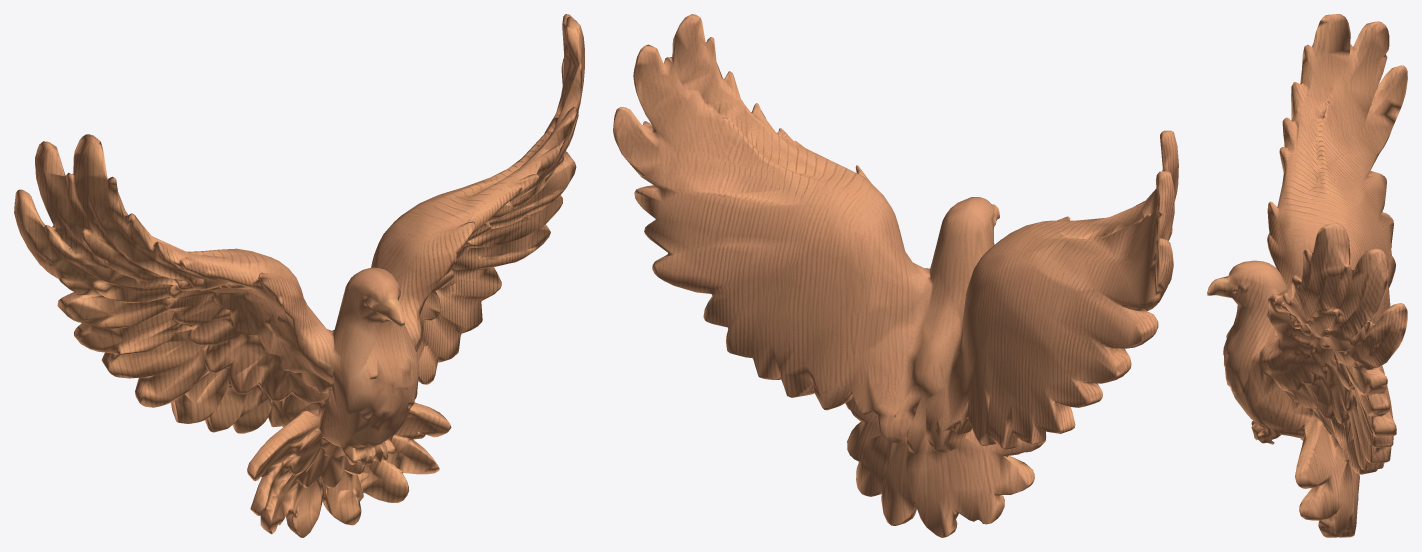
File: kit_mardin_dove_perched.glb
3 renders of one model, left to right at view 1: azimuth 30°, elevation 25°; view 2: azimuth 150°, elevation 25°; view 3: azimuth 270°, elevation 25°, orthographic. The views are drawn at different scales.
Visible parts, largest first — view 1: Mesh1.0; view 2: Mesh1.0; view 3: Mesh1.0.
Boxes of the visible parts, box(x1,y1,x2,y2) form: Mesh1.0: box(14, 14, 584, 537); Mesh1.0: box(613, 14, 1178, 537); Mesh1.0: box(1207, 14, 1407, 537).
Size of the model in its own units: 2.04 by 1.6 by 0.7133.
1 material, 1 textured.
